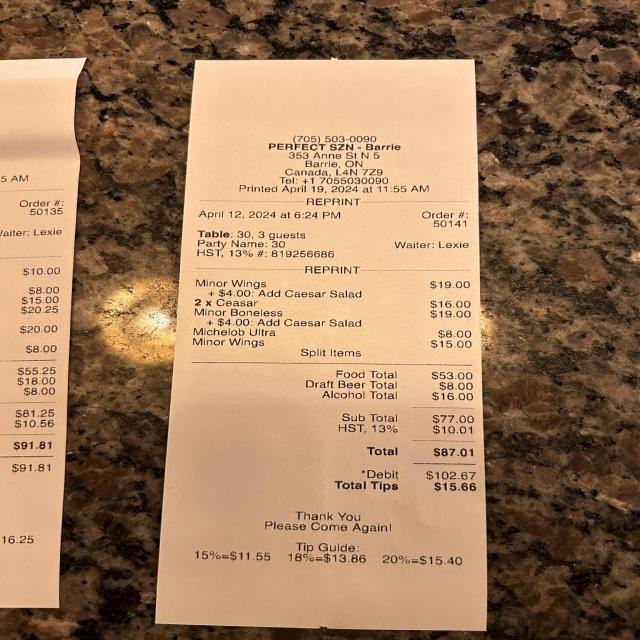item: (188, 275, 477, 300), (190, 307, 475, 327), (190, 293, 476, 310)
store_name: (263, 139, 406, 155)
total_amount: (361, 442, 480, 464)
transaction_date: (194, 205, 280, 222)
